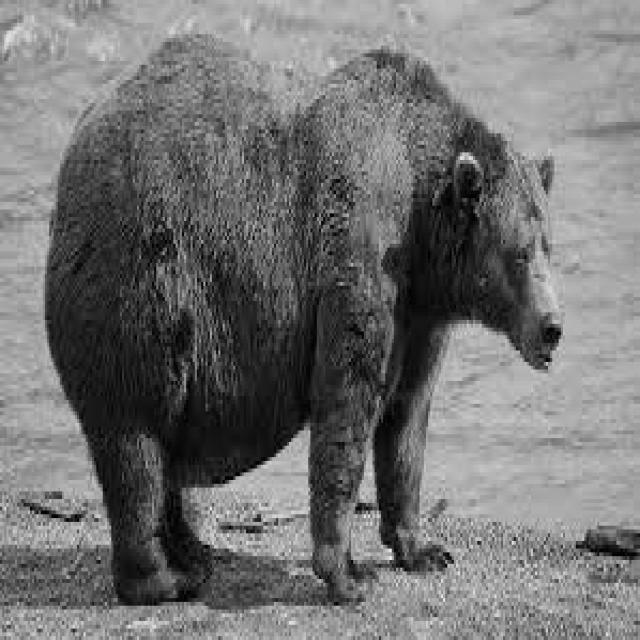Bear: (35, 44, 570, 606)
